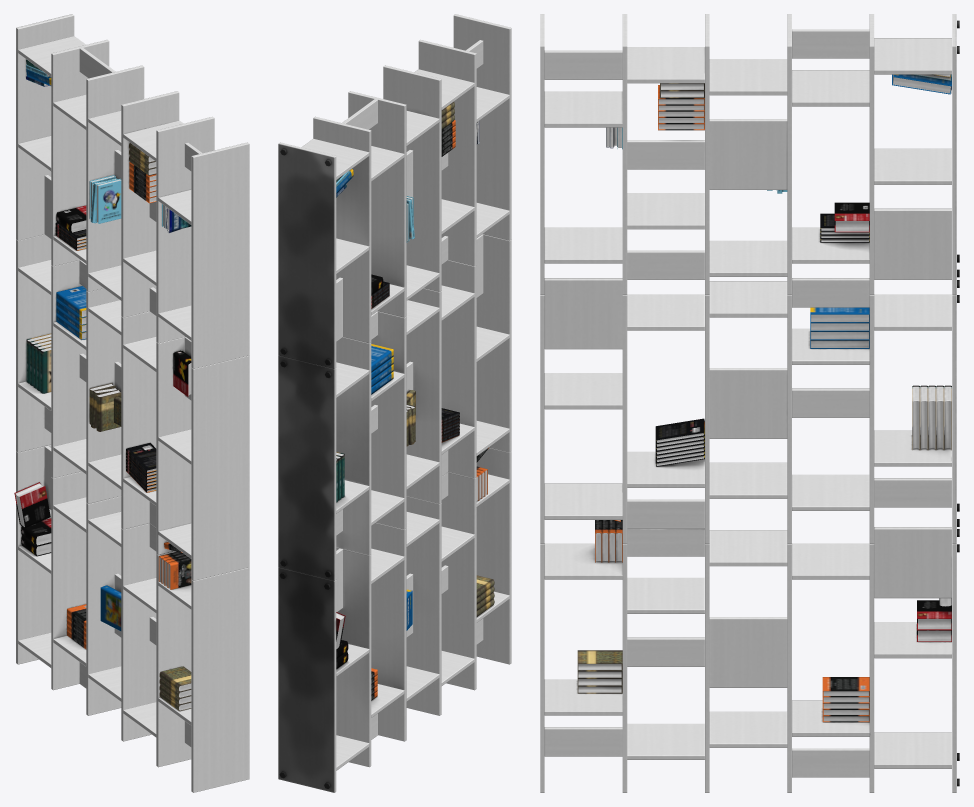
File: estanteria.obj
The picture shows the model from 3 angles, left to right: view 1: azimuth 30°, elevation 25°; view 2: azimuth 150°, elevation 25°; view 3: azimuth 270°, elevation 25°; orthographic projection. The views are drawn at different scales.
Parts seen in each view (by area): view 1: 10218_Bookshelves_v1; view 2: 10218_Bookshelves_v1; view 3: 10218_Bookshelves_v1.
Boxes of the visible parts, bbox=[...] form: 10218_Bookshelves_v1: bbox=[14, 14, 249, 792]; 10218_Bookshelves_v1: bbox=[278, 14, 511, 792]; 10218_Bookshelves_v1: bbox=[540, 14, 959, 792].
Size of the model in its own units: 53.28 by 540 by 275.
1 material, 1 textured.
